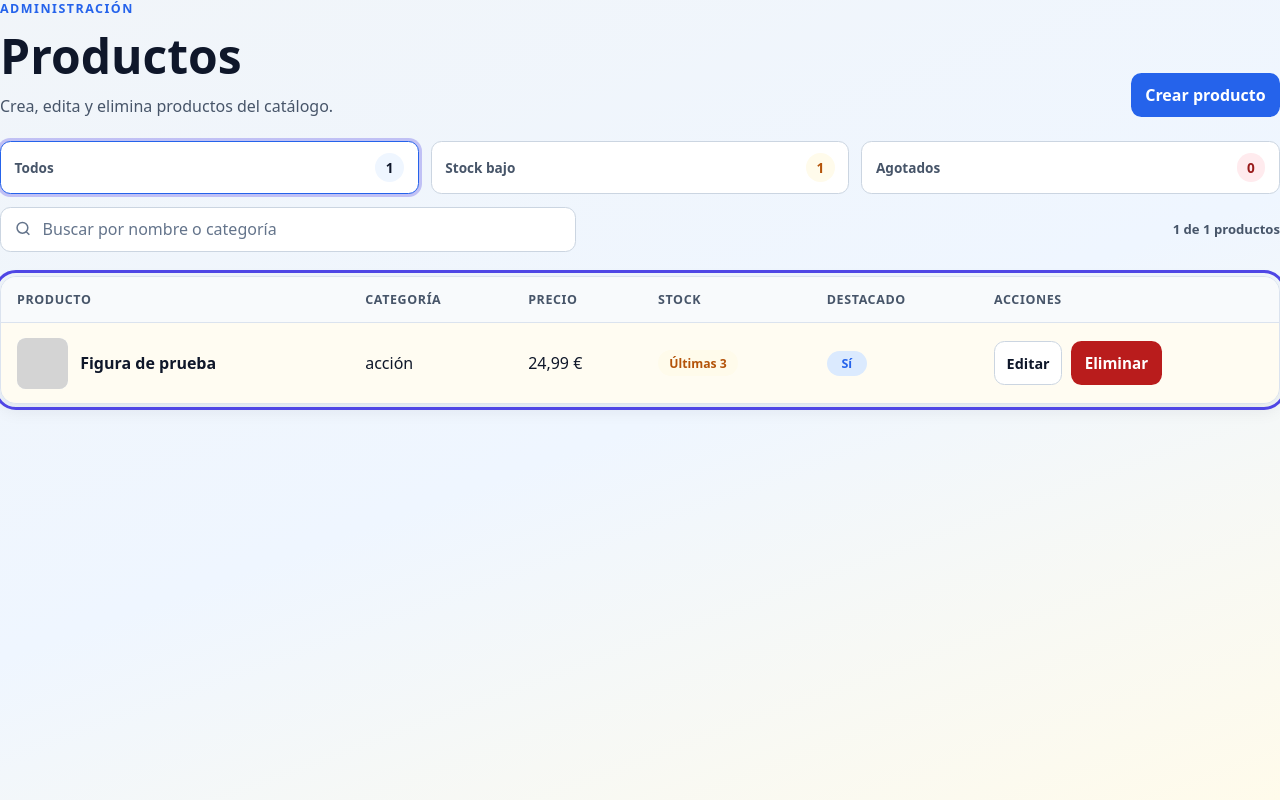
it: AdminProductsPage › lista productos y permite eliminarlos después de confirmar
expect the text "Figura de prueba" is shown: met, box [80,352,216,374]
expect the text "Sí" is shown: met, box [827,351,867,376]
Click the button "Eliminar": (1116, 363) [1071,341,1162,385]
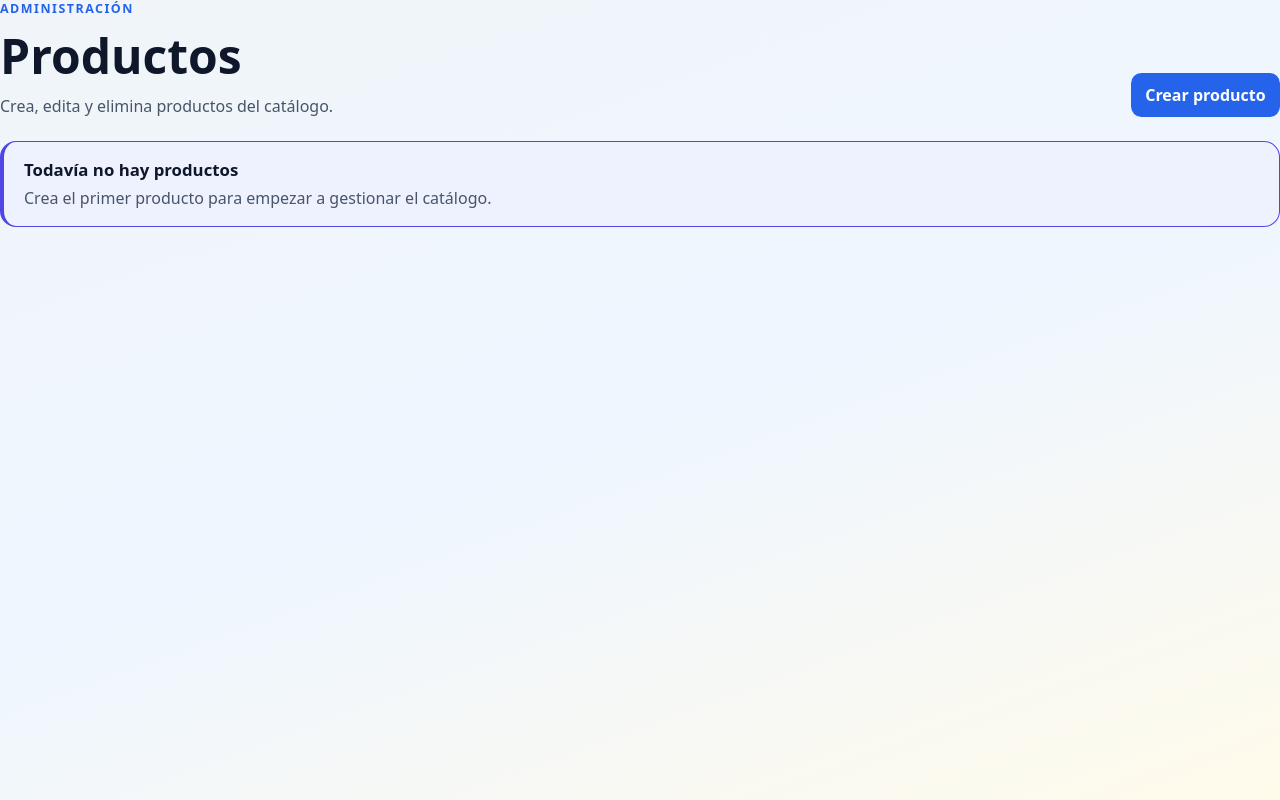
expect the text "Figura de prueba" is gone: met
